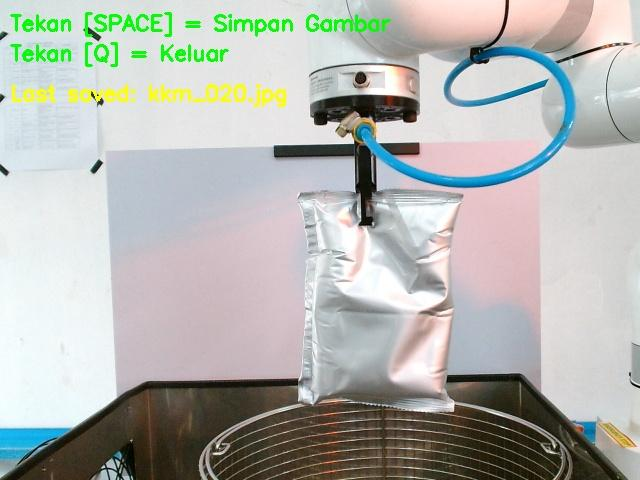retort-pouch: (293, 187, 462, 411)
